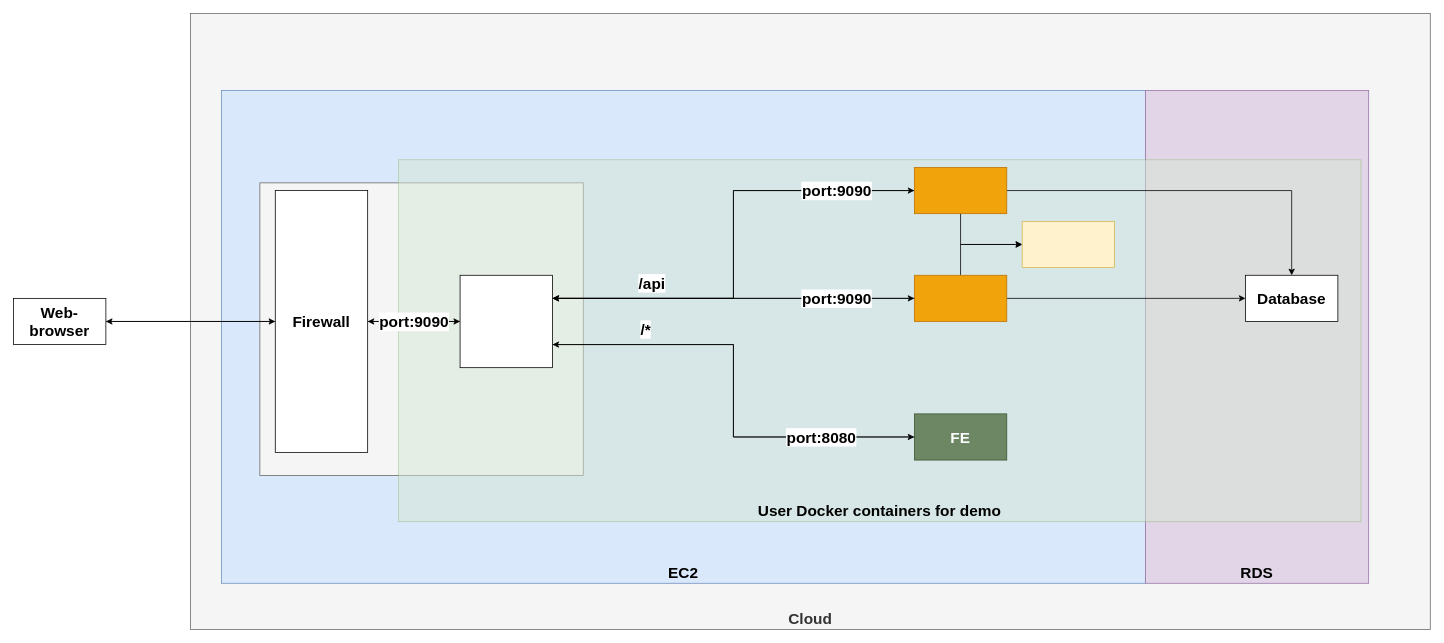
This 1444x643 diagram has some shape labels left out. The shapes that lost their labels are listed below. From the top down, each one's centre as x and y in pixels, then its label:
(960,190): BE-1
(1068,244): Redis
(960,298): BE-2
(505,321): Routing Balancer
